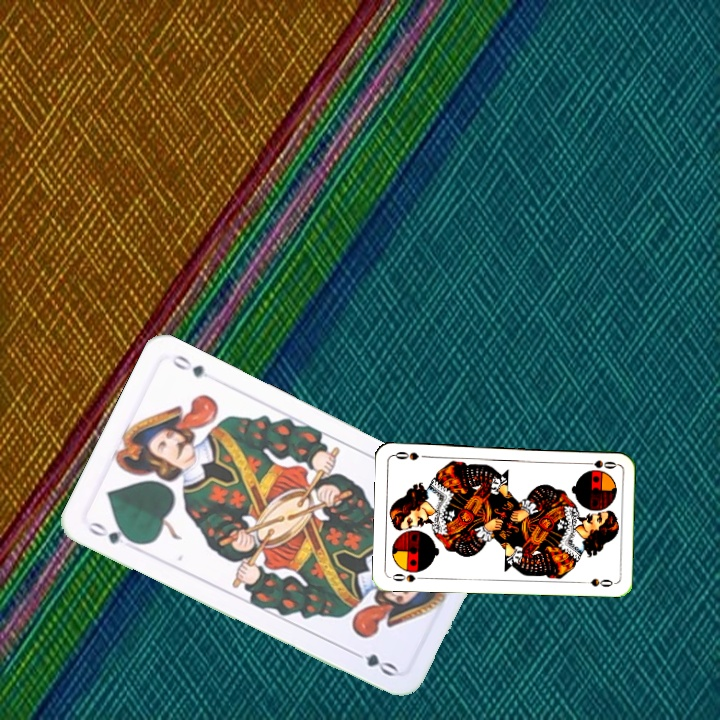GO: (82, 517, 140, 547)
SO: (387, 569, 427, 585), (579, 456, 619, 471)
